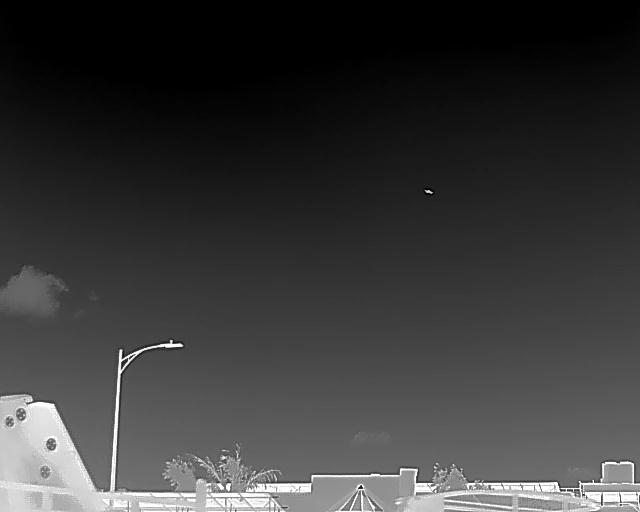fpv-drone: (424, 189, 433, 194)
